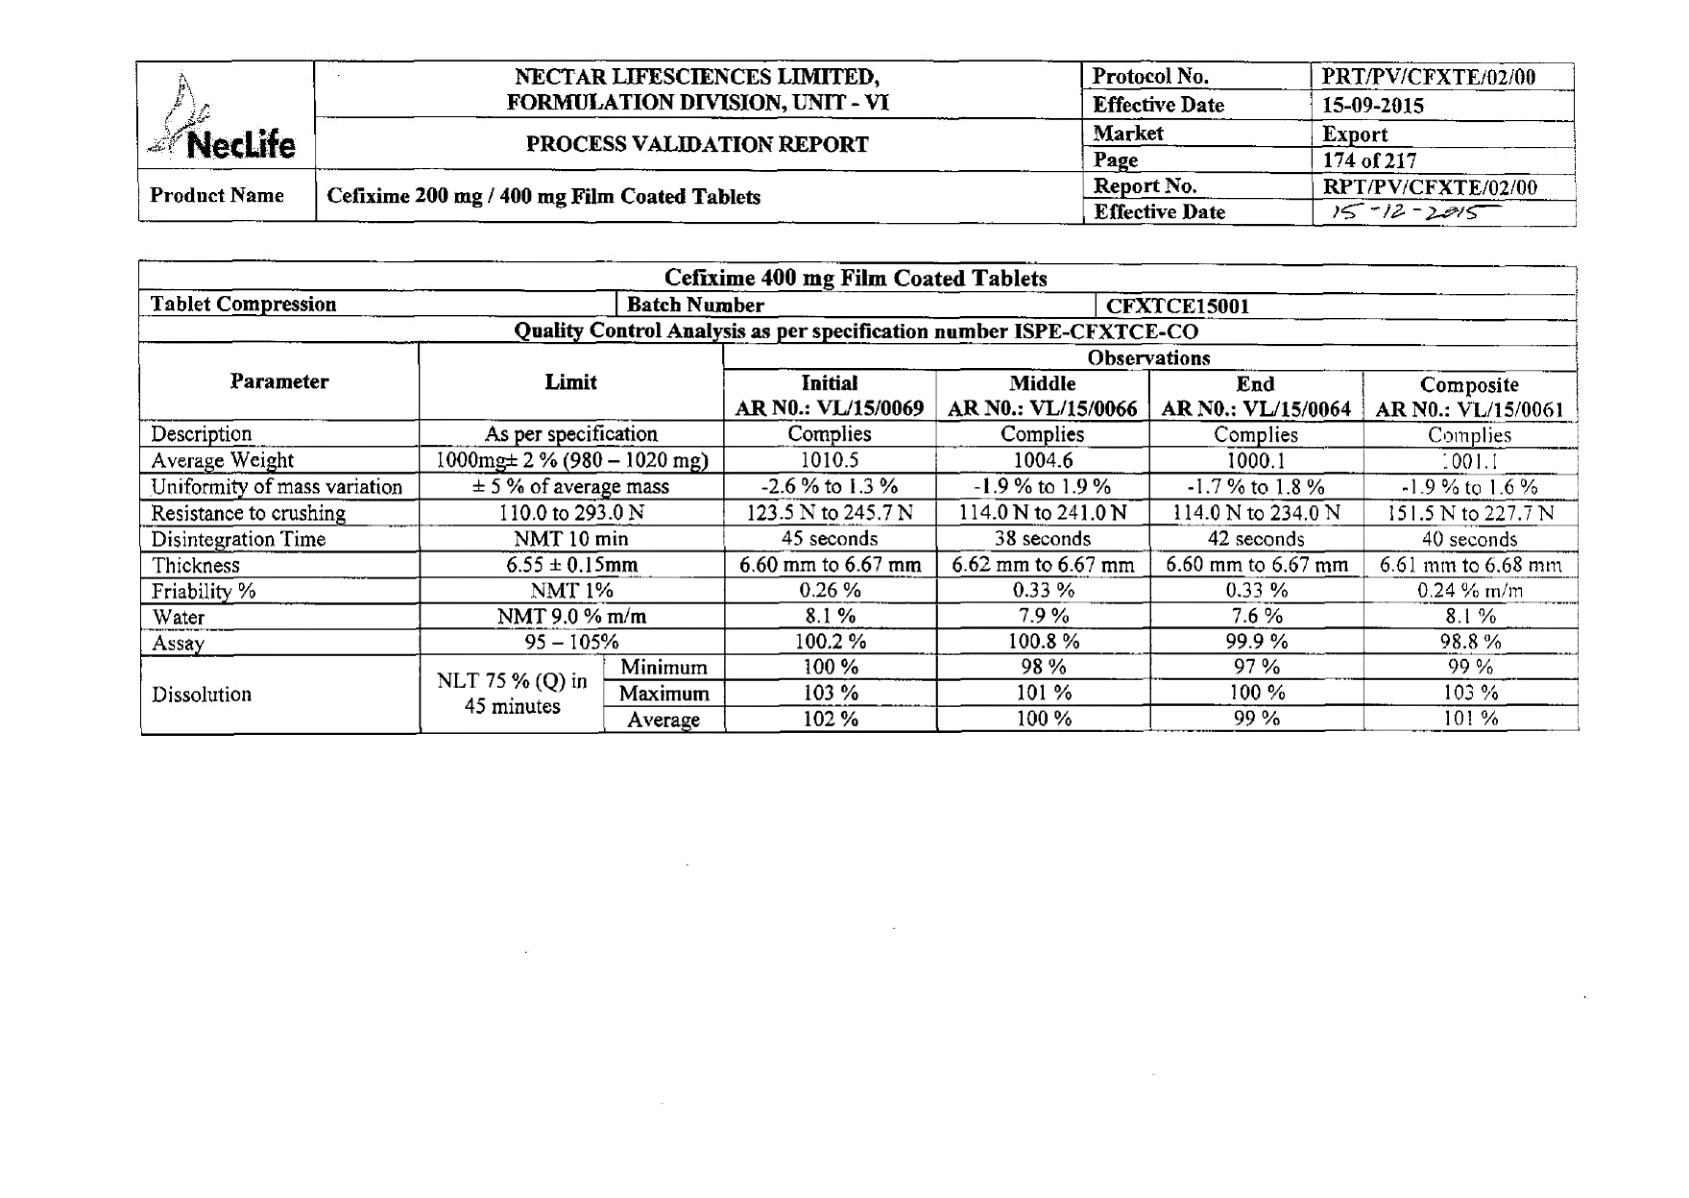merged_cells: (137, 258, 1580, 733), (135, 60, 1578, 228)
